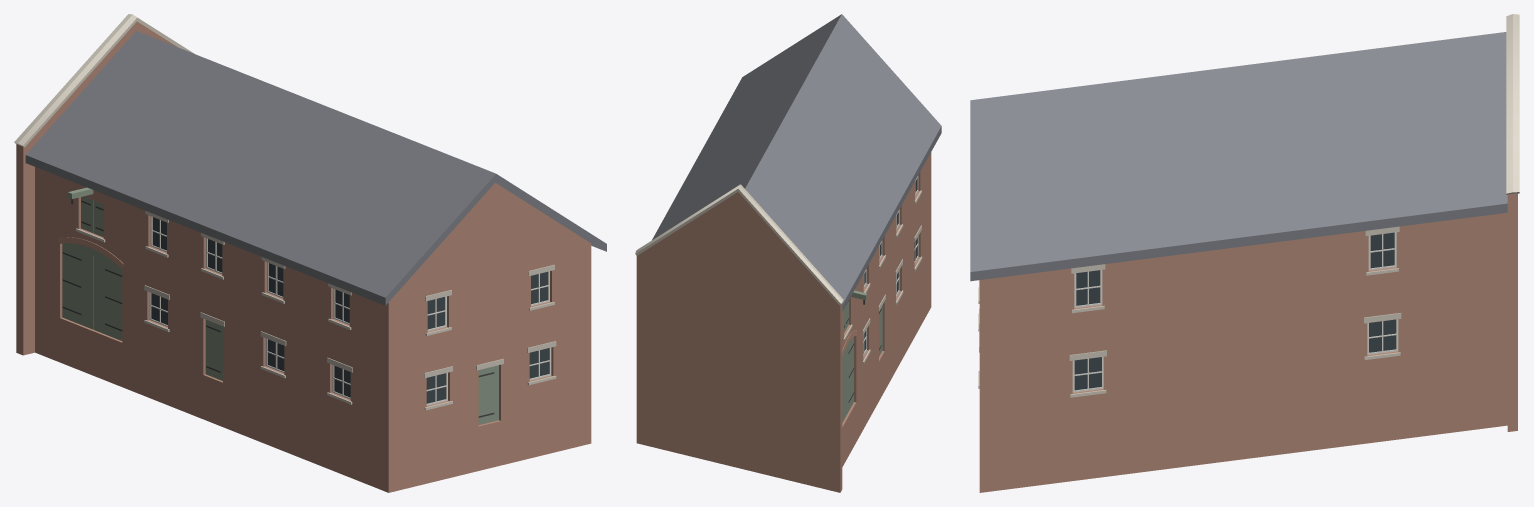
The model's file is spalding_house_1637_prairie_coach_house__as_standing_1904.glb.
The picture shows the model from 3 angles, left to right: view 1: azimuth 30°, elevation 25°; view 2: azimuth 150°, elevation 25°; view 3: azimuth 270°, elevation 25°; orthographic projection. The views are drawn at different scales.
Visible parts, largest first — view 1: spalding_house_1637_prairie_coach_house__as_standing_1904; view 2: spalding_house_1637_prairie_coach_house__as_standing_1904; view 3: spalding_house_1637_prairie_coach_house__as_standing_1904.
Part boxes in pixels (box(x1,y1,x2,y2)): spalding_house_1637_prairie_coach_house__as_standing_1904: box(14, 14, 606, 492); spalding_house_1637_prairie_coach_house__as_standing_1904: box(635, 14, 941, 492); spalding_house_1637_prairie_coach_house__as_standing_1904: box(970, 14, 1519, 492).
Bounding box in the file's own units: 14.87 × 12.63 × 17.71.
